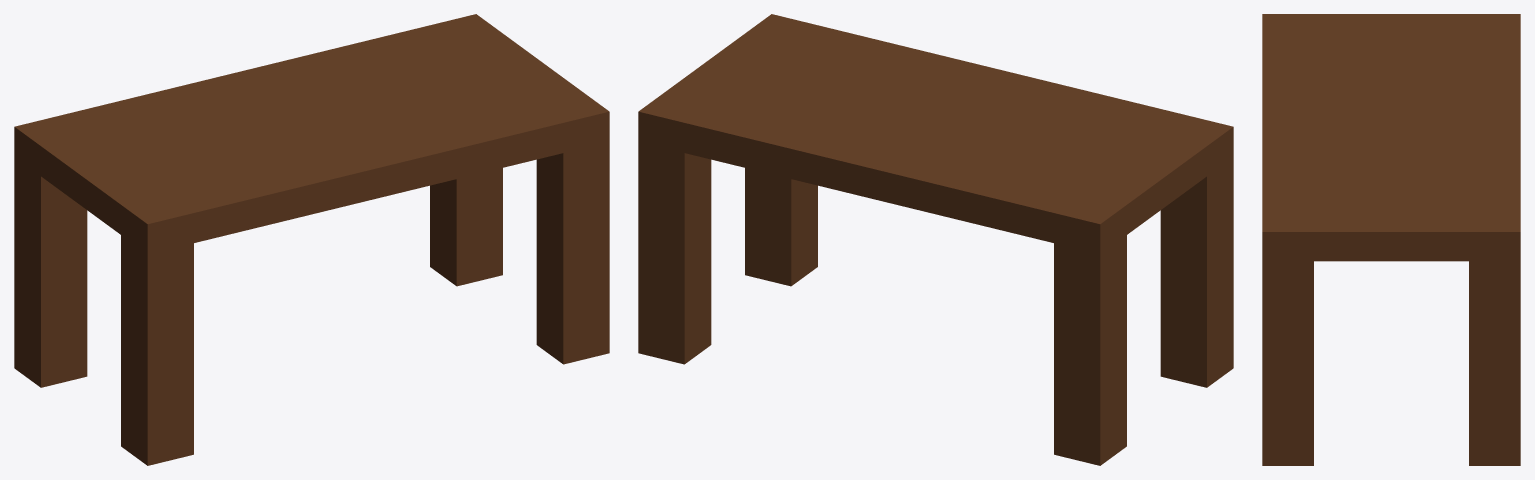
The model's file is Table.fbx.
3 renders of one model, left to right at view 1: azimuth 30°, elevation 25°; view 2: azimuth 150°, elevation 25°; view 3: azimuth 270°, elevation 25°, orthographic. The views are drawn at different scales.
Parts seen in each view (by area): view 1: Table; view 2: Table; view 3: Table.
Part boxes in pixels (bbox=[...]): Table: bbox=[14, 14, 609, 465]; Table: bbox=[638, 14, 1233, 465]; Table: bbox=[1262, 14, 1520, 465].
Size of the model in its own units: 400 by 200 by 200.
